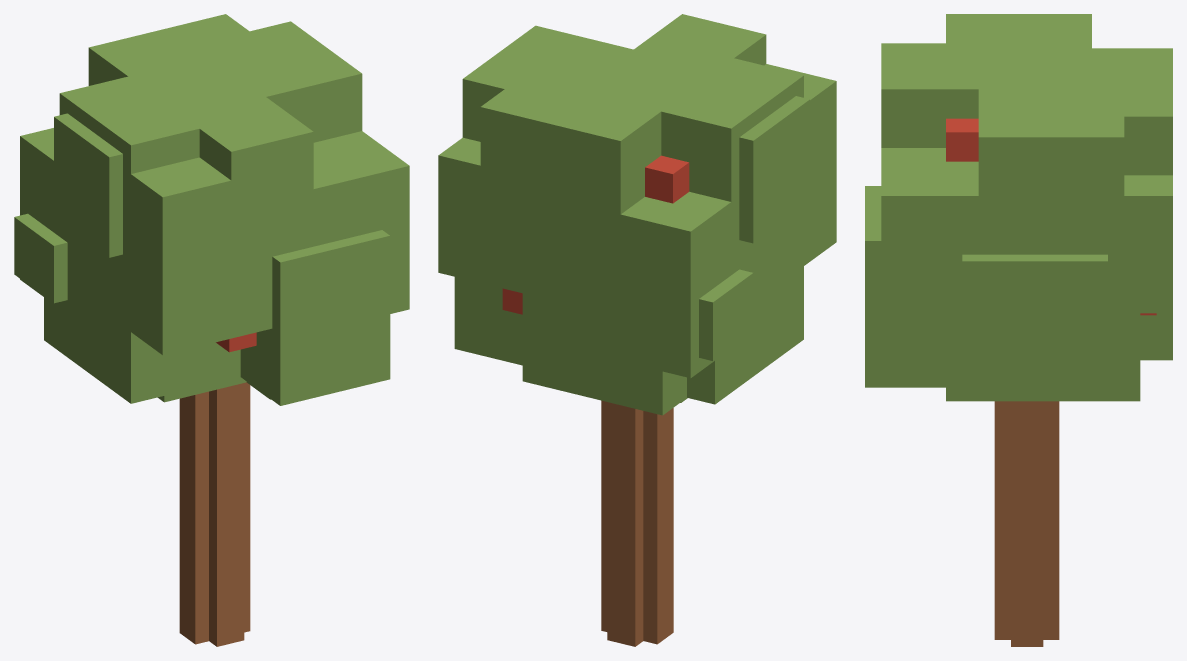
Rendered from Tree1.obj.
The picture shows the model from 3 angles, left to right: view 1: azimuth 30°, elevation 25°; view 2: azimuth 150°, elevation 25°; view 3: azimuth 270°, elevation 25°; orthographic projection. The views are drawn at different scales.
Bounding box in the file's own units: 2 × 3.8 × 1.9.
Materials: 1 (1 with a texture image).
